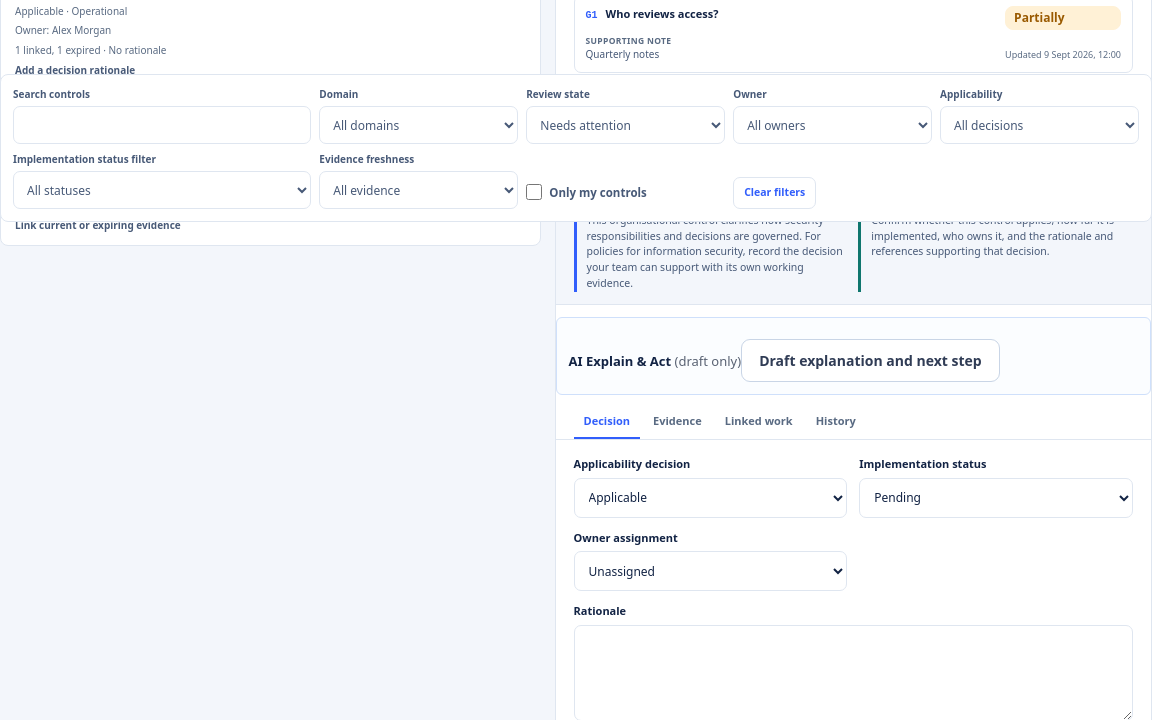
Test: SoA optional AI restoration › targets the selected SoA item and resets its AI draft when switching controls
(page scrolled)
Click the button "Draft explanation and next step". click: point(870, 360)
box: 741,338 -> 1000,382
(page scrolled)
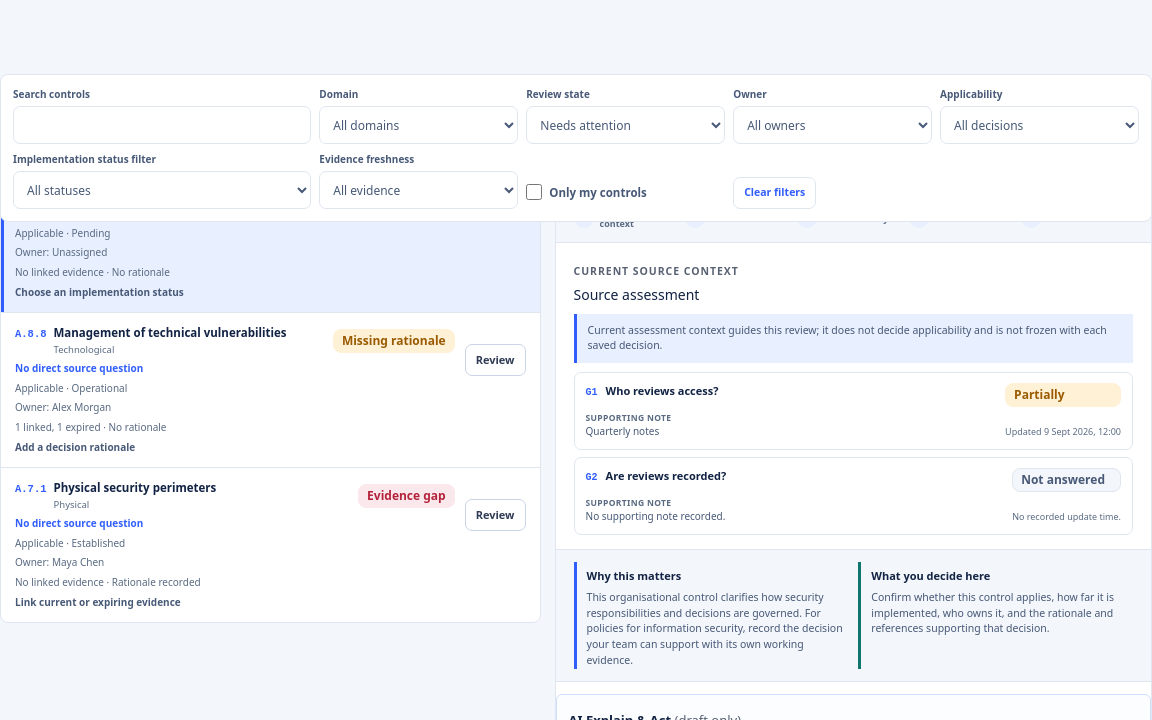
Click the button named "Review A.8.8". click: point(495, 360)
box: 465,344 -> 526,376
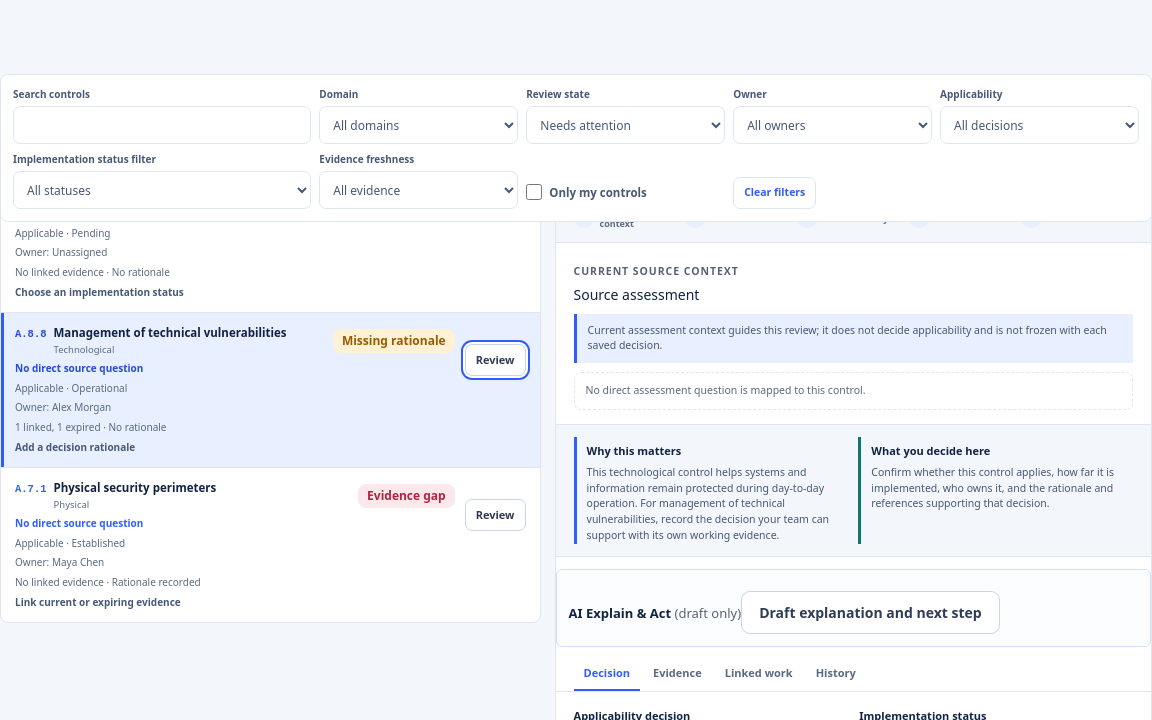
Result: the button "Draft explanation and next step" is shown at 741,591 -> 1000,634
